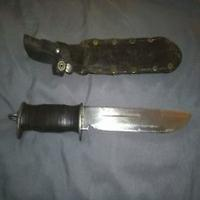knife: (8, 94, 200, 147)
